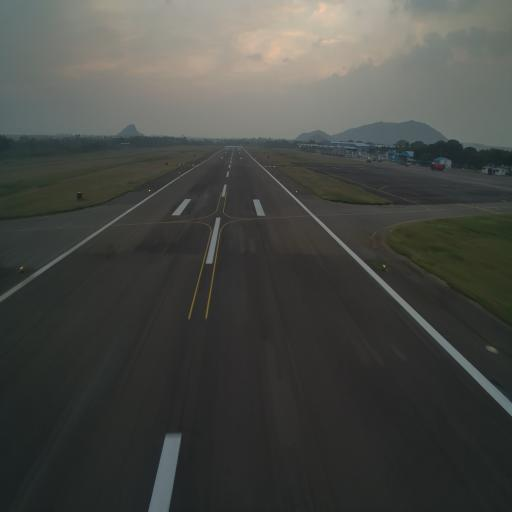on: (17, 262, 25, 274), (382, 260, 387, 270), (295, 188, 298, 196), (148, 187, 151, 193)
